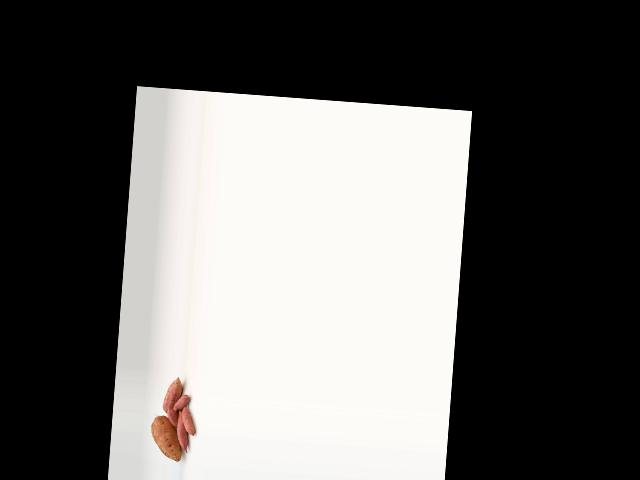sweet_potato: (162, 374, 183, 413)
